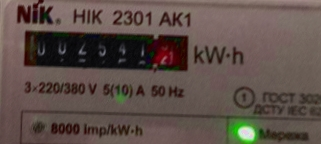0: (35, 36, 48, 58), (56, 35, 68, 57)
1: (137, 37, 148, 60)
2: (76, 35, 91, 58)
4: (117, 36, 129, 57)
5: (96, 36, 109, 59)
6: (158, 54, 170, 66)
screen: (11, 20, 202, 81)
